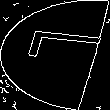L_E: (7, 36, 103, 74)
